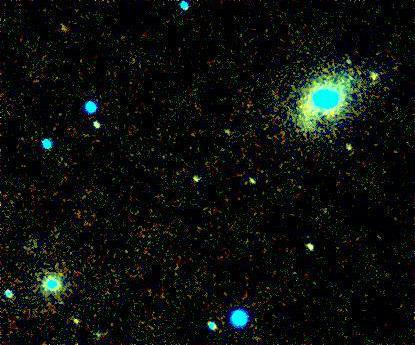star: (63, 307, 93, 337)
